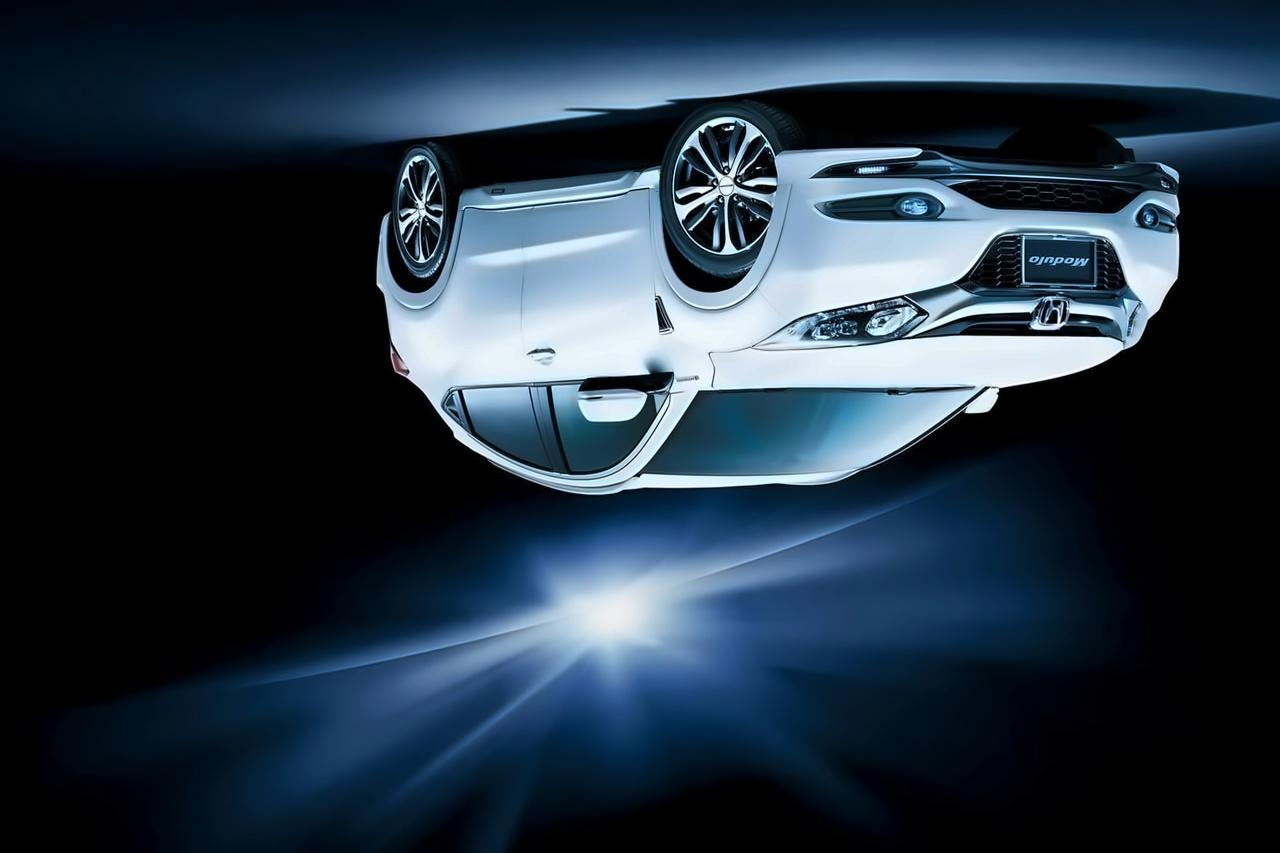Car hood: (704, 331, 1128, 393)
Fender - -F-L-: (405, 169, 472, 387)
Front bumper: (766, 140, 1190, 293)
Headlight - -L-: (743, 290, 937, 359)
Headlight - -R-: (1119, 297, 1161, 358)
Passenger-s door - -F-L-: (524, 169, 670, 496)
Passenger-s door - -R-L-: (422, 182, 566, 492)
Rear bumper: (352, 196, 414, 305)
Rear light - -L-: (374, 329, 416, 381)
Side bumper - -L-: (450, 157, 667, 219)
Side mirror - -L-: (567, 369, 651, 426)
Side mirror - -R-: (953, 376, 1011, 426)
